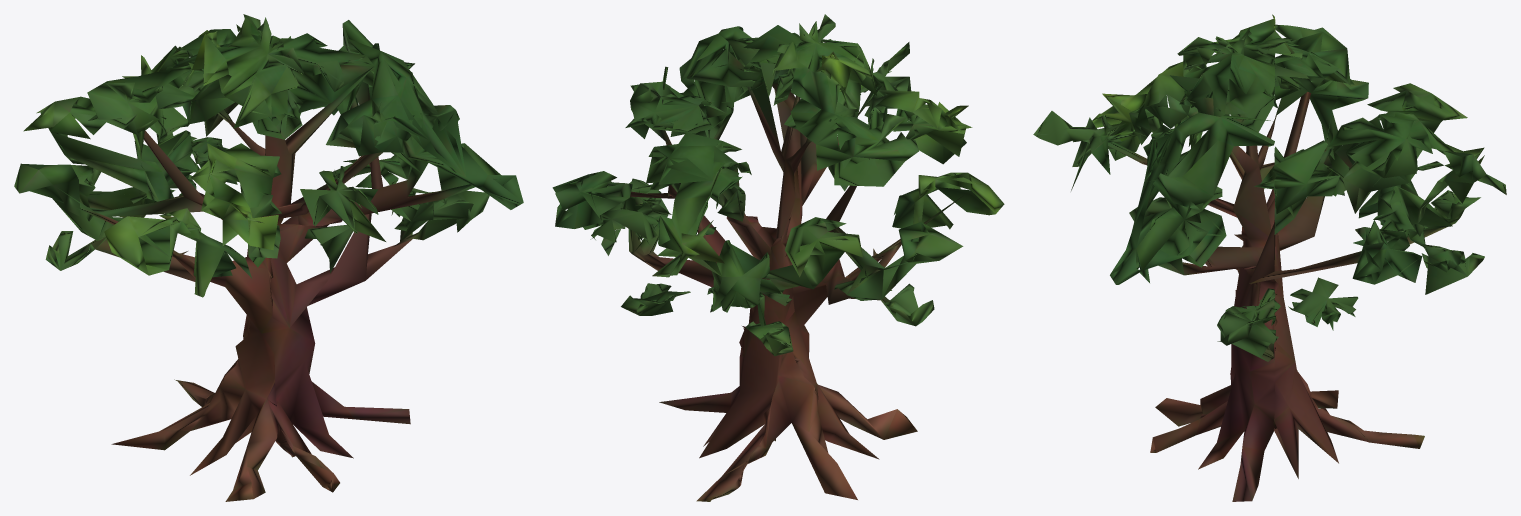
File: bigtree.glb
The picture shows the model from 3 angles, left to right: view 1: azimuth 30°, elevation 25°; view 2: azimuth 150°, elevation 25°; view 3: azimuth 270°, elevation 25°; orthographic projection. The views are drawn at different scales.
Parts seen in each view (by area): view 1: tripo_node_649f7465-f623-4cb9-b809-f96febdd400f; view 2: tripo_node_649f7465-f623-4cb9-b809-f96febdd400f; view 3: tripo_node_649f7465-f623-4cb9-b809-f96febdd400f.
Part boxes in pixels (left/top/right/bottom): tripo_node_649f7465-f623-4cb9-b809-f96febdd400f: left=14, top=14, right=523, bottom=501; tripo_node_649f7465-f623-4cb9-b809-f96febdd400f: left=552, top=14, right=1004, bottom=501; tripo_node_649f7465-f623-4cb9-b809-f96febdd400f: left=1033, top=14, right=1506, bottom=501.
Size of the model in its own units: 0.9188 by 0.9163 by 0.9375.
1 material, 1 textured.
